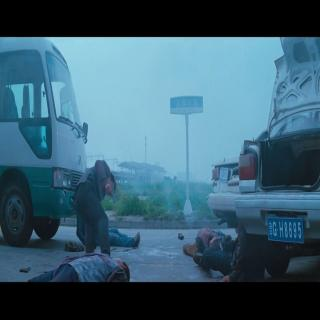gun: (105, 183, 116, 202)
